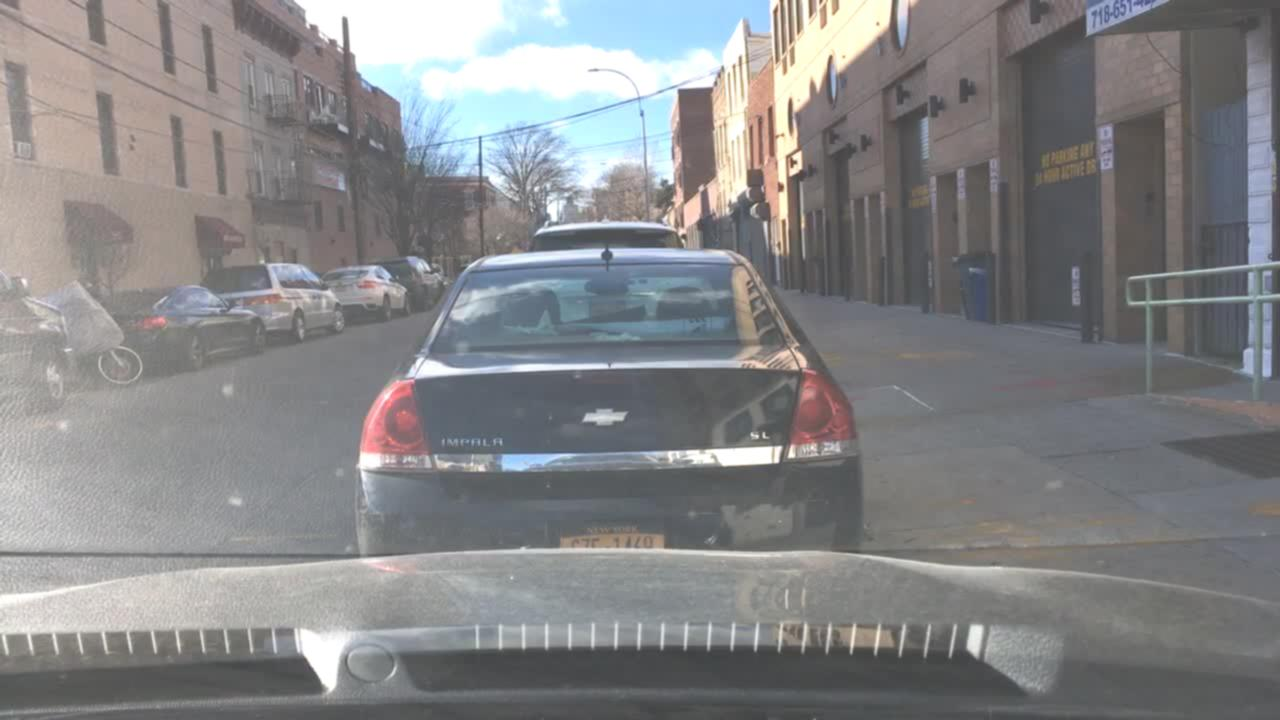chevrolet: (580, 401, 631, 432)
